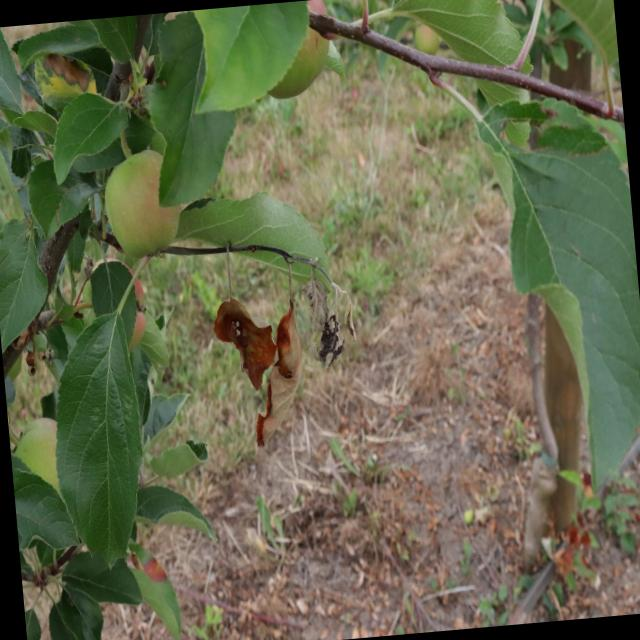-FireBlight-: (203, 256, 318, 456)
